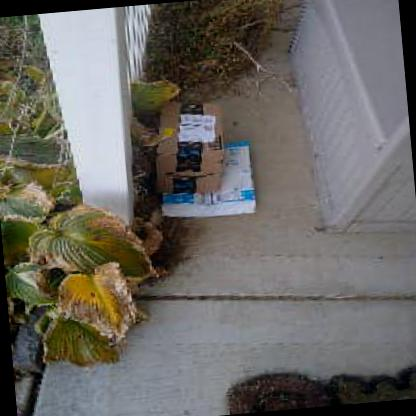box: (154, 101, 224, 193)
plastic_bag: (161, 136, 257, 222)
